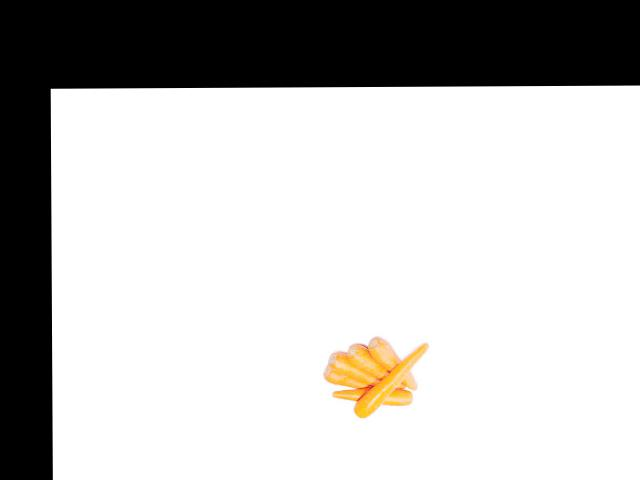carrot: (370, 329, 425, 391)
